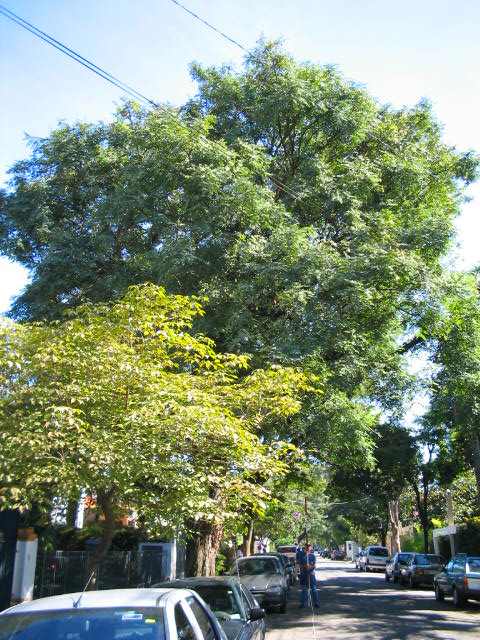stick: (301, 495, 317, 609)
